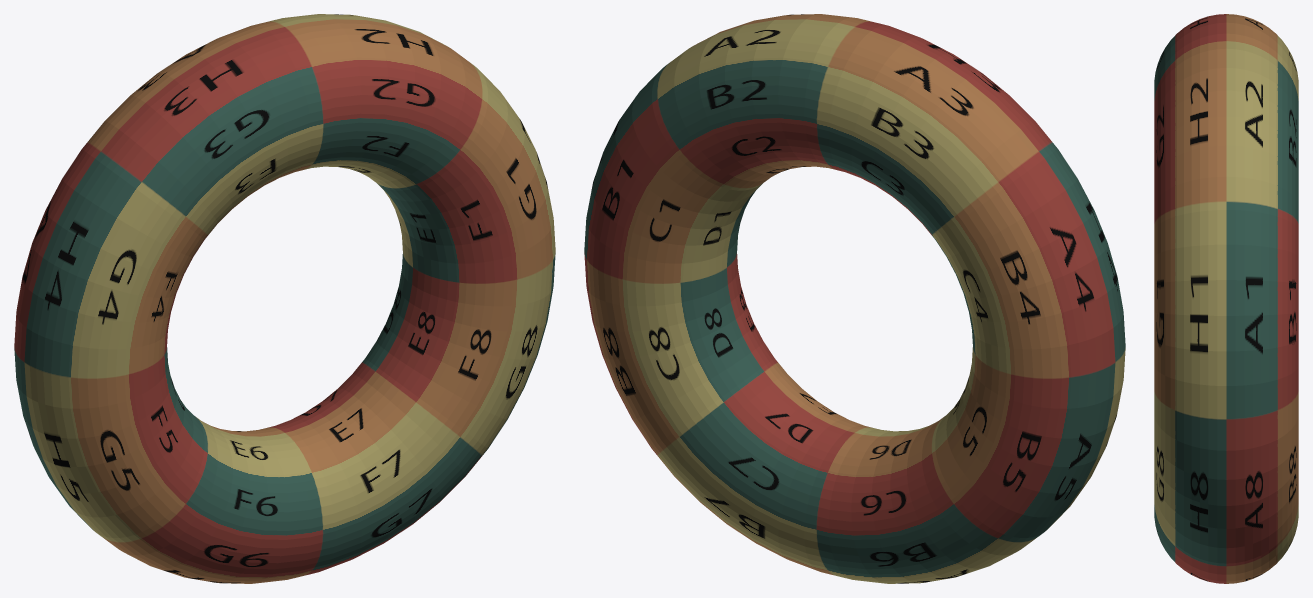
Rendered from texture_torus_R22_r24.glb.
3 renders of one model, left to right at view 1: azimuth 30°, elevation 25°; view 2: azimuth 150°, elevation 25°; view 3: azimuth 270°, elevation 25°, orthographic. The views are drawn at different scales.
Parts seen in each view (by area): view 1: world; view 2: world; view 3: world.
Part boxes in pixels (left/top/right/bottom): world: left=14, top=14, right=555, bottom=583; world: left=584, top=14, right=1125, bottom=583; world: left=1154, top=14, right=1298, bottom=583.
Size of the model in its own units: 33.07 by 33 by 8.38.
1 material, 1 textured.
